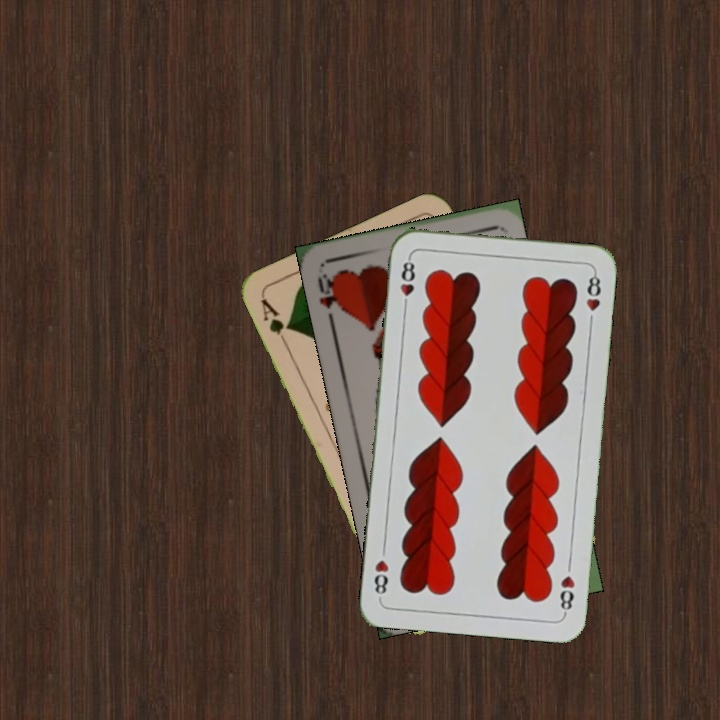GA: (256, 294, 294, 349)
H8: (396, 253, 418, 312), (556, 572, 577, 617)
HO: (313, 269, 343, 326)
